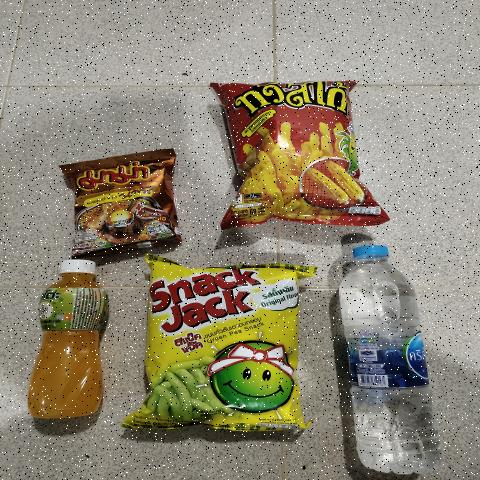crystal: (338, 245, 438, 471)
mama: (78, 163, 176, 239)
snack_jack: (151, 271, 295, 432)
twisco: (231, 79, 371, 218)
